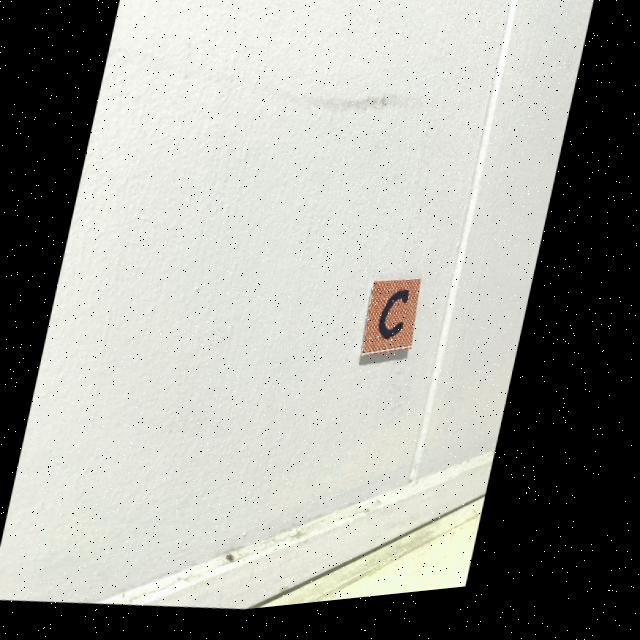C: (385, 300, 414, 347)
